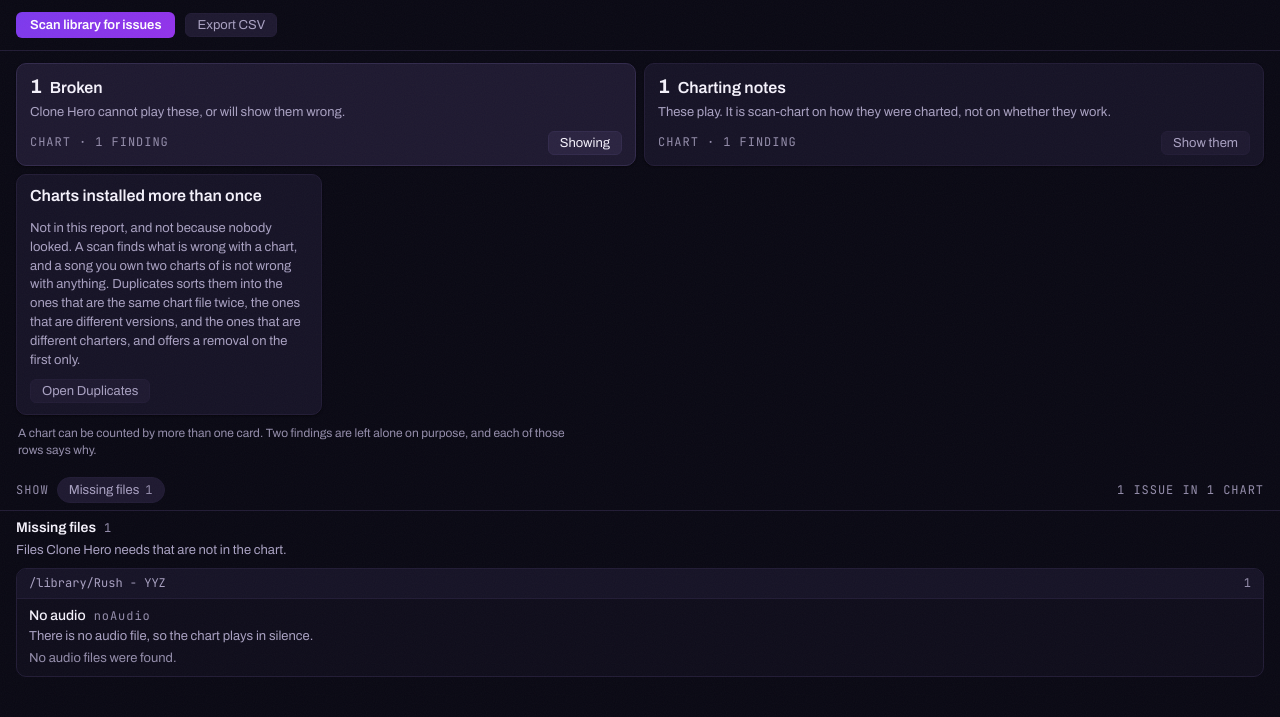
Test: Tools: the health cards › counts the library by card and lists only the cards that are showing
Check: the text "No audio" is shown, box [29, 607, 86, 624]
Check: the text "1 ISSUE IN 1 CHART" is shown, box [1117, 482, 1264, 498]
Click the button with aria-label ": Charting notes": [1206, 143] box [1161, 131, 1250, 155]
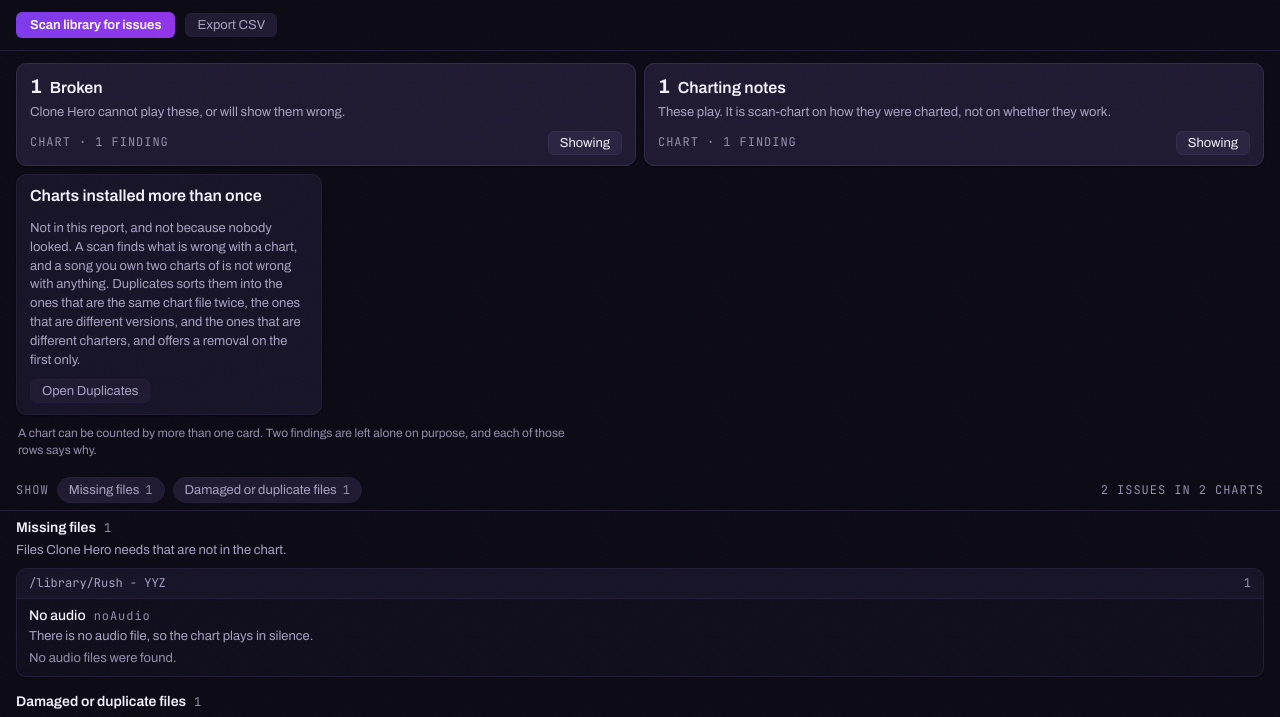
Check: the text "No audio" is shown, box [29, 607, 86, 624]
Check: the text "2 ISSUES IN 2 CHARTS" is shown, box [1101, 482, 1264, 498]
